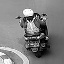mobil: (10, 6, 57, 55)
